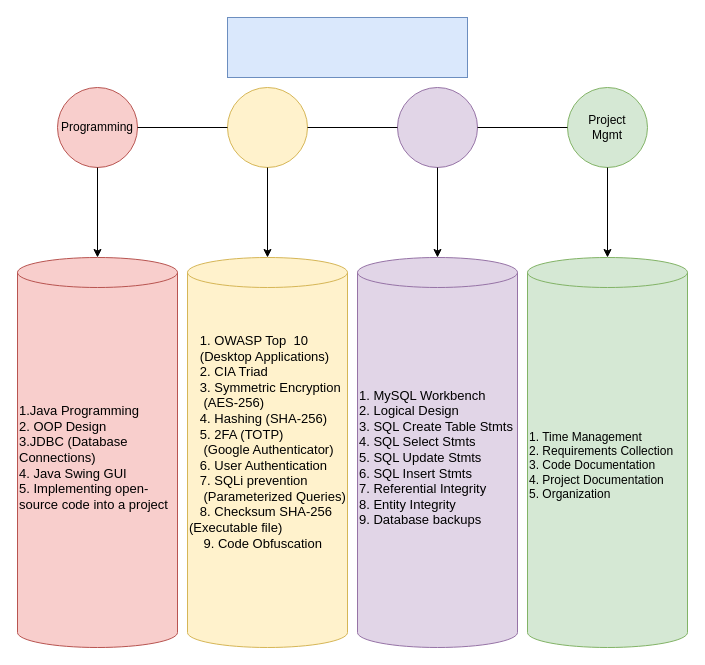
The diagram is 705 pixels wide and 665 high, and some of its shapes have lost their labels. The box of each missing label's shape, as (x1, y1, x2, y2) in pixels:
Cybersecurity: (226, 86, 308, 168)
Database Dev.: (396, 86, 478, 168)
Skills Applied: (226, 16, 468, 78)
